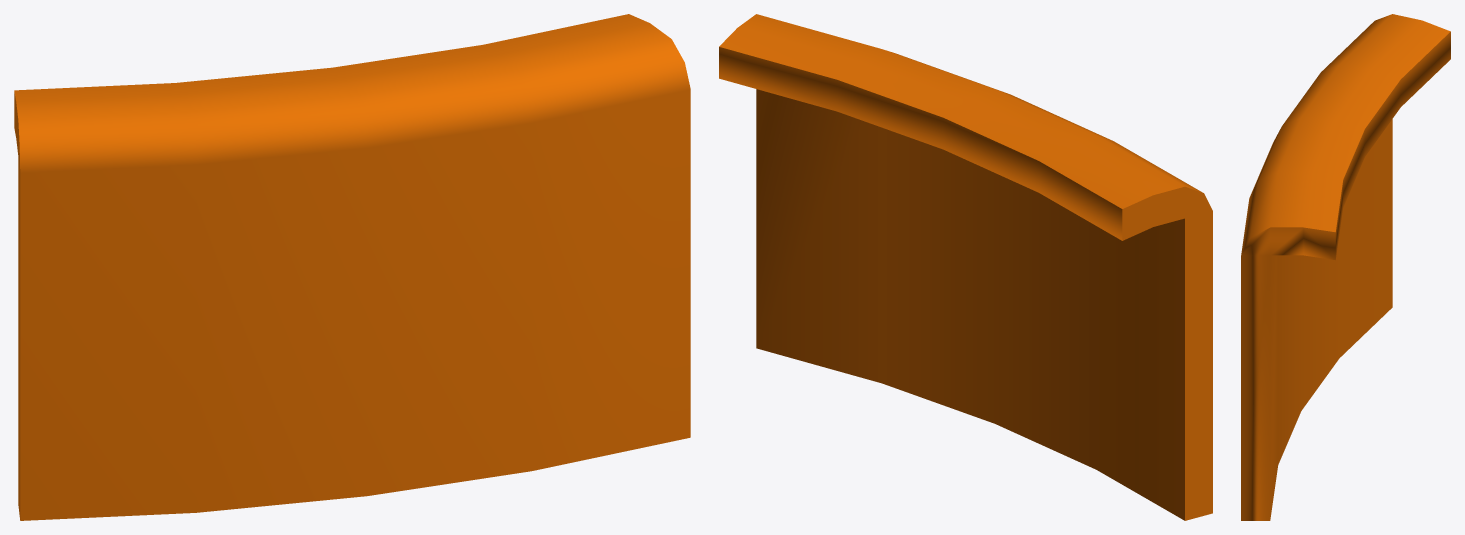
File: Plastic_Pipe_E_Right.fbx
The picture shows the model from 3 angles, left to right: view 1: azimuth 30°, elevation 25°; view 2: azimuth 150°, elevation 25°; view 3: azimuth 270°, elevation 25°; orthographic projection. The views are drawn at different scales.
Parts seen in each view (by area): view 1: Plastic_Pipe_E_Right; view 2: Plastic_Pipe_E_Right; view 3: Plastic_Pipe_E_Right.
Part boxes in pixels (left/top/right/bottom): Plastic_Pipe_E_Right: left=14, top=14, right=690, bottom=520; Plastic_Pipe_E_Right: left=719, top=14, right=1212, bottom=520; Plastic_Pipe_E_Right: left=1241, top=14, right=1450, bottom=520.
Bounding box in the file's own units: 3.95 × 2.47 × 1.6.
